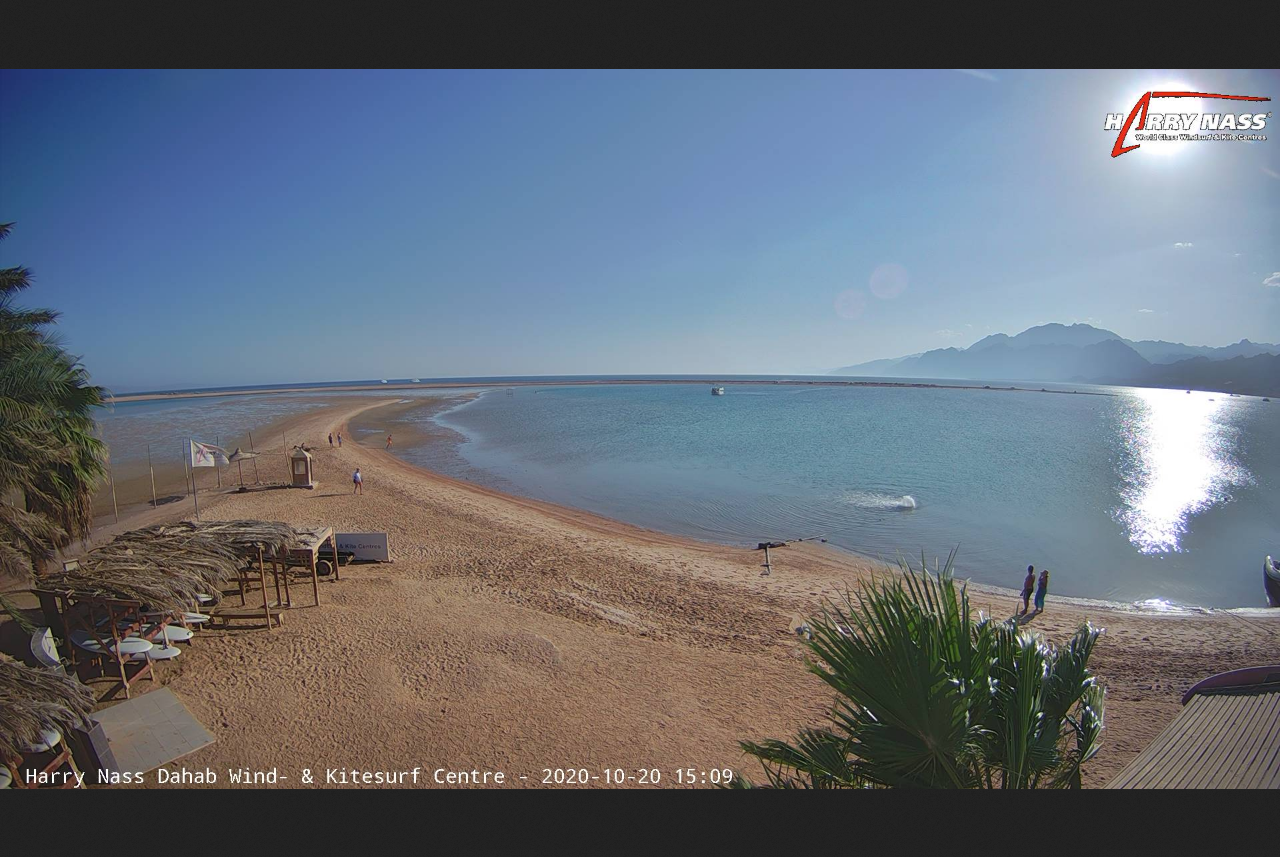yes: (188, 441, 258, 474)
